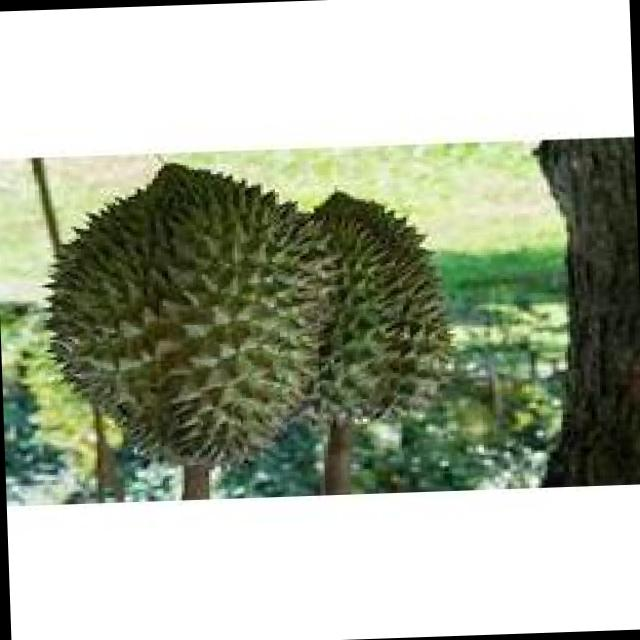fruit: (26, 155, 340, 485)
